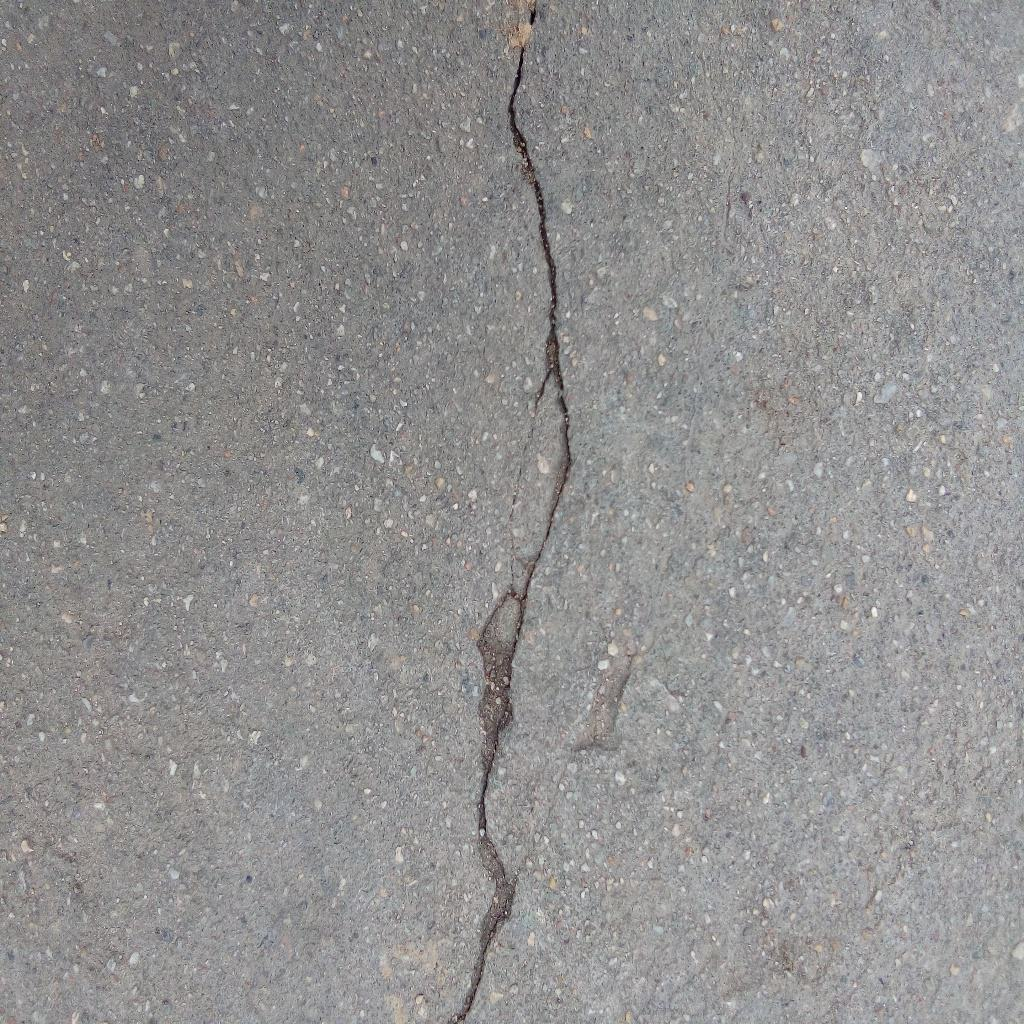Crack: (443, 1, 576, 1024)
Spalling: (576, 644, 634, 751)
